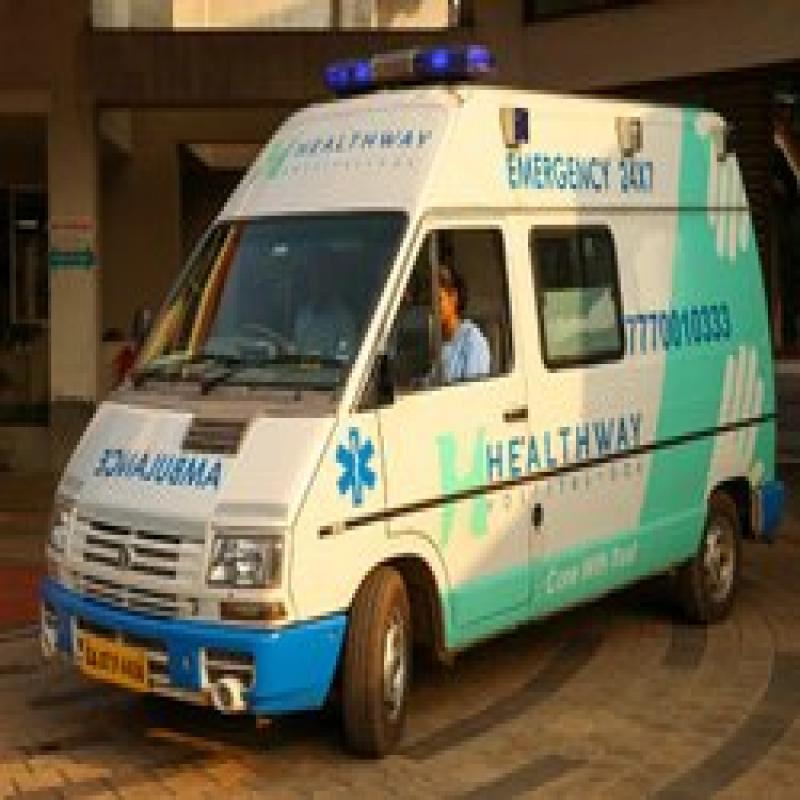ambulance: (66, 84, 708, 686)
